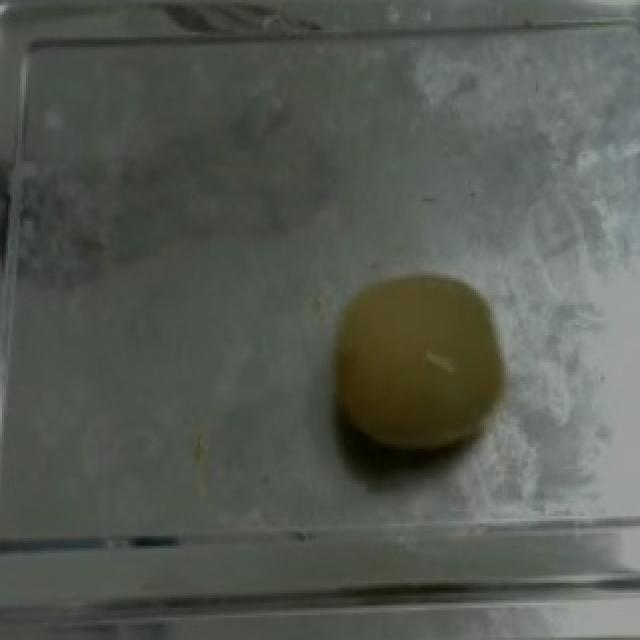Fruit: (318, 265, 516, 469)
